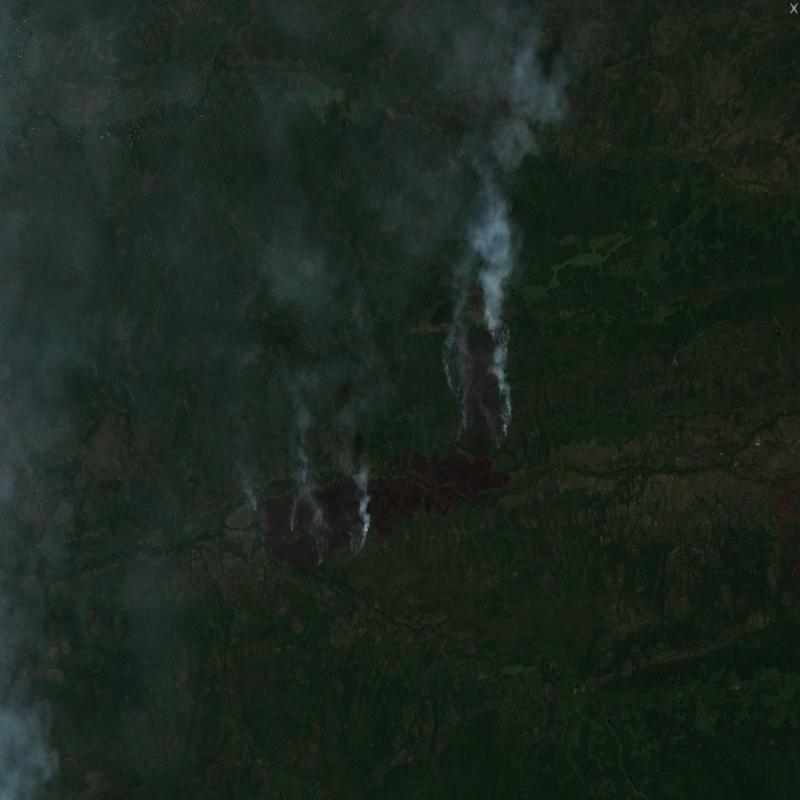fire: (437, 271, 522, 455), (243, 464, 374, 570)
